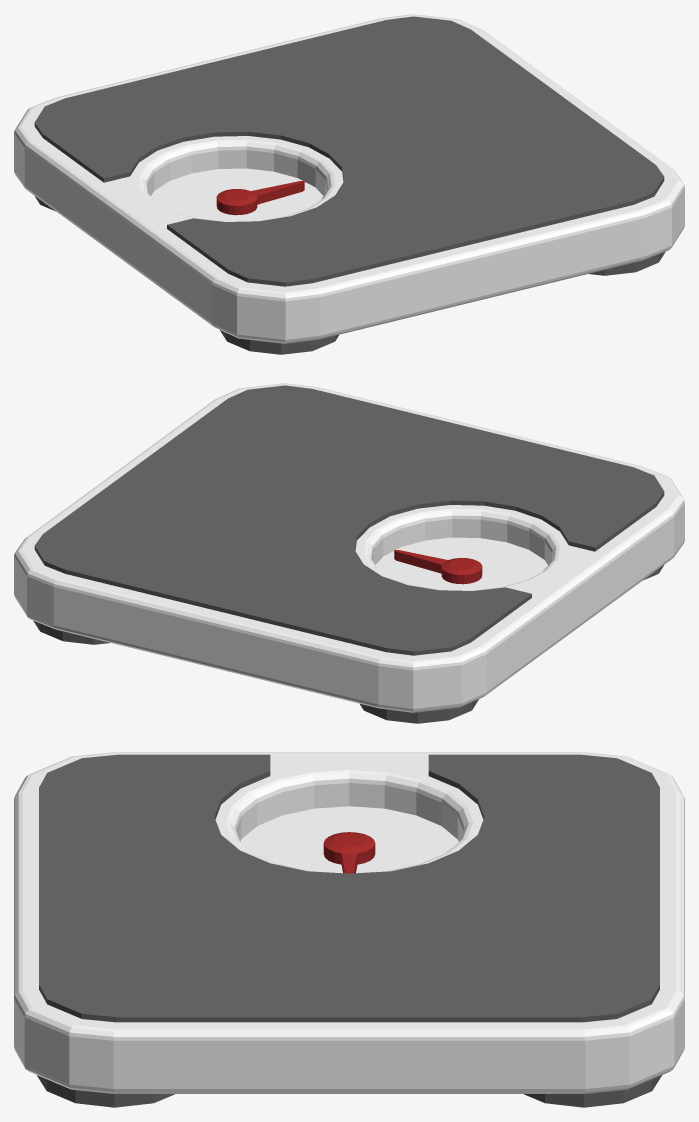
Rendered from bathroom-scale.glb.
3 views of the same model, one above another, from view 1: azimuth 30°, elevation 25°; view 2: azimuth 150°, elevation 25°; view 3: azimuth 270°, elevation 25° (orthographic). The views are drawn at different scales.
Parts seen in each view (by area): view 1: Bathroom_Scale; view 2: Bathroom_Scale; view 3: Bathroom_Scale.
Boxes of the visible parts, <box> form: Bathroom_Scale: <box>14,14,684,354</box>; Bathroom_Scale: <box>14,383,684,723</box>; Bathroom_Scale: <box>14,752,684,1107</box>.
Size of the model in its own units: 38.05 by 5.59 by 38.05.
Materials: 1 (1 with a texture image).
